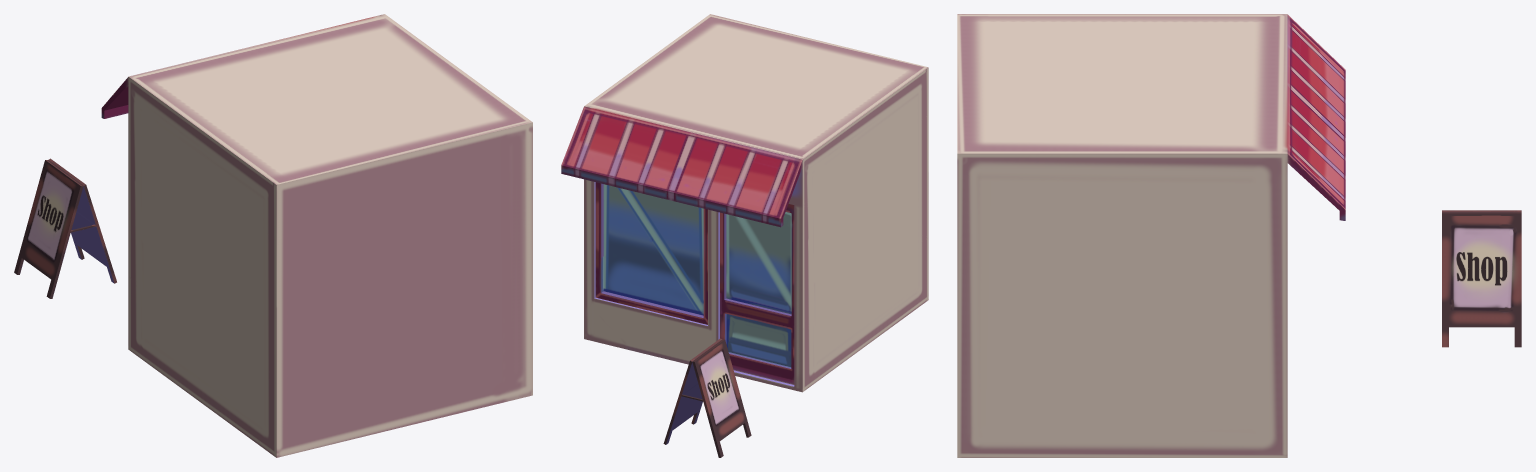
File: SM_ARCH_Shop.fbx
3 views of the same model, side by side, from view 1: azimuth 30°, elevation 25°; view 2: azimuth 150°, elevation 25°; view 3: azimuth 270°, elevation 25° (orthographic). The views are drawn at different scales.
Visible parts, largest first — view 1: Cube, Cube.002, Cube.001; view 2: Cube, Cube.001, Cube.002; view 3: Cube, Cube.002, Cube.001.
Boxes of the visible parts, x1,y1,x2,y2 form: Cube: (128, 14, 532, 457); Cube.002: (14, 158, 116, 298); Cube.001: (101, 77, 128, 118); Cube: (584, 14, 928, 392); Cube.001: (561, 106, 802, 227); Cube.002: (663, 338, 751, 457); Cube: (957, 14, 1287, 457); Cube.002: (1442, 210, 1521, 347); Cube.001: (1287, 15, 1345, 220).
Size of the model in its own units: 352 by 344 by 579.
Materials: 1 (1 with a texture image).
